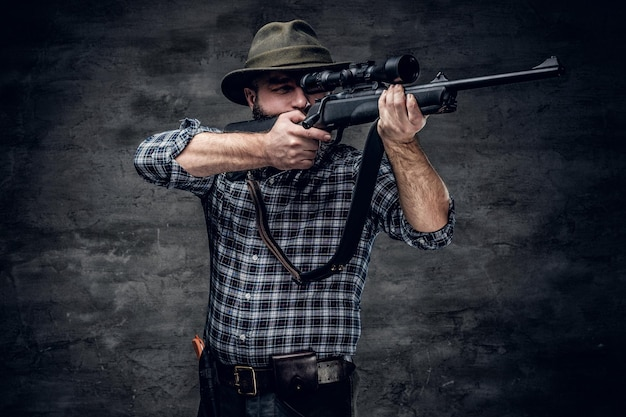gun: (224, 52, 560, 159)
